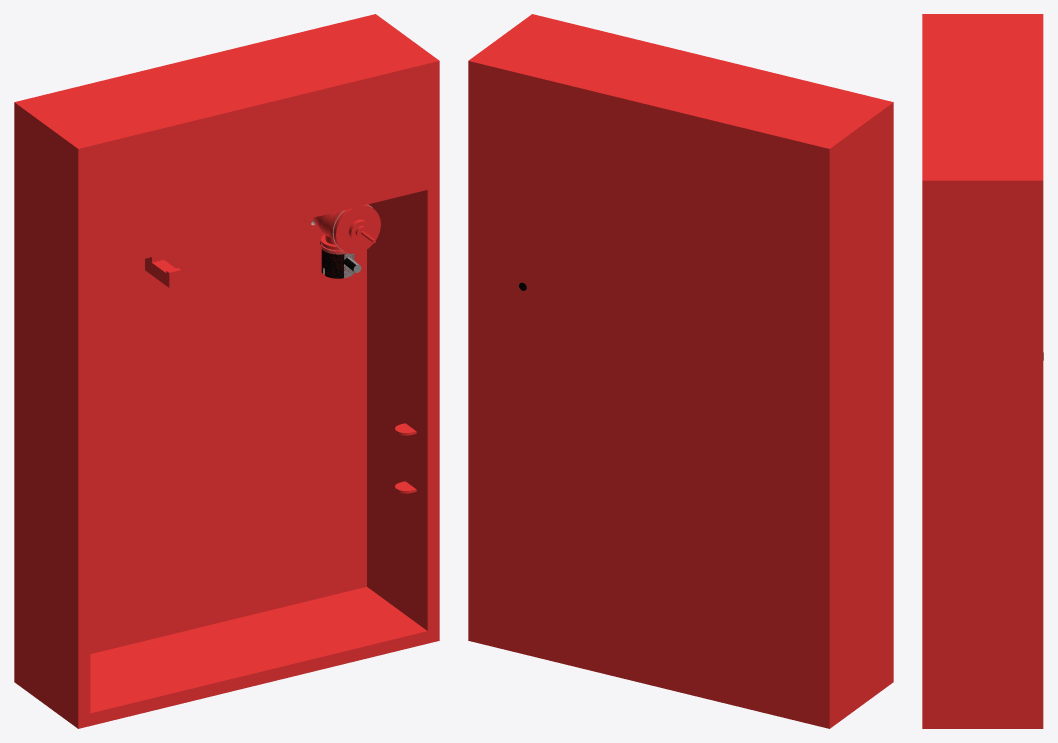
Rendered from FireCabinetBase.dae.
3 views of the same model, side by side, from view 1: azimuth 30°, elevation 25°; view 2: azimuth 150°, elevation 25°; view 3: azimuth 270°, elevation 25° (orthographic). The views are drawn at different scales.
Parts seen in each view (by area): view 1: group_9 (×2), group_15, group_10; view 2: group_9; view 3: group_9.
Boxes of the visible parts, bbox=[...] form: group_9 (×2): bbox=[14, 14, 439, 728]; group_15: bbox=[333, 205, 380, 253]; group_10: bbox=[395, 423, 416, 493]; group_9: bbox=[468, 14, 893, 728]; group_9: bbox=[922, 14, 1043, 728].
Size of the model in its own units: 29.53 by 9.08 by 45.28.
